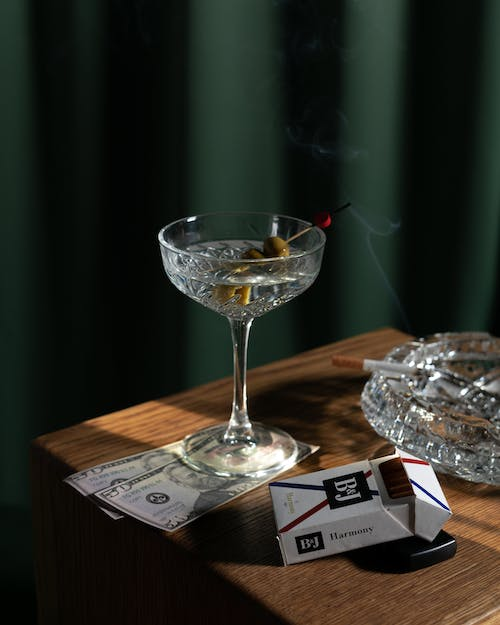alcohol: (156, 207, 329, 483)
cigarette: (263, 446, 454, 571), (330, 349, 433, 381)
